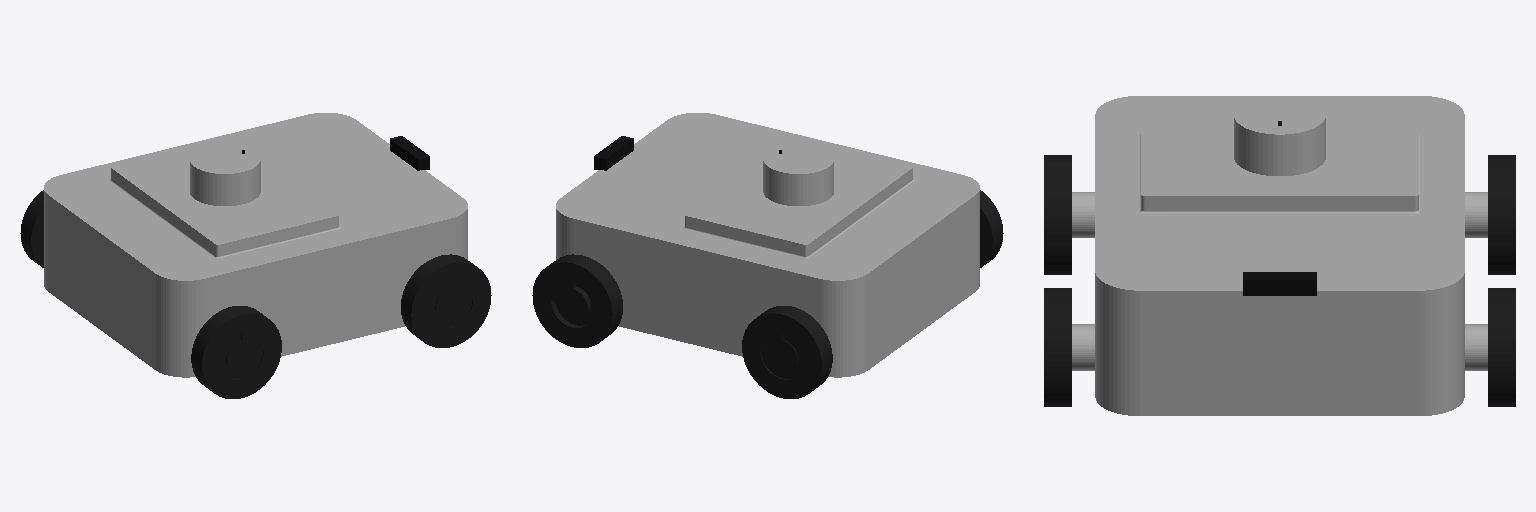
The robot description file, URDF, robot "mobile_robot":
<!--URDF generated by ONSHAPE BY PTC INC, 1.220-->
<robot name="mobile_robot">
    
    
    <link name="dummy_root"/>

    <joint name="dummy_to_body1" type="fixed">
       <parent link="dummy_root"/>
       <child link="body1"/>
       <origin xyz="0 0 0" rpy="0 0 -1.5708"/>
    </joint>
   
    <link name="base_link"/>

    <joint name="body1_to_base_link" type="fixed">
     <parent link="body1"/>
     <child link="base_link"/>
     <origin xyz="0 0 0" rpy="0 0 0"/>
    </joint>

     <link name="body1">
        <inertial>
            <mass value="0.0314678" />
            <origin xyz="3.54862e-11 -0.00253163 0.0795531" rpy="0 -0 0" />
            <inertia ixx="0.000690003" ixy="-5.10466e-12" ixz="-4.70873e-14" iyy="0.000476276" iyz="7.0956e-06"      izz="0.00102698" />
        </inertial>
        <visual>
            <origin xyz="0 0 0" rpy="0 -0 0" />
            <geometry>
                <mesh filename="package://mobile_robot/meshes/Body1.stl" scale="1 1 1" />
            </geometry>
            <material name="0.701961_0.701961_0.701961_0.000000_0.000000">
                <color rgba="0.701961 0.701961 0.701961 1" />
            </material>
        </visual>
        <collision>
            <origin xyz="0 0 0" rpy="0 -0 0" />
            <geometry>
                <mesh filename="package://mobile_robot/meshes/Body1.stl" scale="1 1 1" />
            </geometry>
            <material name="0.701961_0.701961_0.701961_0.000000_0.000000">
                <color rgba="0.701961 0.701961 0.701961 1" />
            </material>
        </collision>
     </link>
     <link name="front_left_wheel_1__body1">
        <inertial>
            <mass value="0.003843" />
            <origin xyz="-0.0146384 0.000232332 0.000234871" rpy="0 -0 0" />
            <inertia ixx="8.28355e-07" ixy="9.25139e-10" ixz="9.35248e-10" iyy="4.42501e-07" iyz="-1.33942e-09" izz="4.42472e-07" />
        </inertial>
        <visual>
            <origin xyz="0.225 -0.17 -0.045" rpy="0 -0 0" />
            <geometry>
                <mesh filename="package://mobile_robot/meshes/front_left_wheel_1__Body1.stl" scale="1 1 1" />
            </geometry>
            <material name="0.152941_0.152941_0.152941_0.000000_0.000000">
                <color rgba="0.152941 0.152941 0.152941 1" />
            </material>
        </visual>
        <collision>
            <origin xyz="-0.015 0 0" rpy="0 1.5708 0" />
            <geometry>
                <cylinder radius="0.065" length="0.03" />
            </geometry>
            
        </collision>
     </link>
     <link name="front_right_wheel_1__body1">
        <inertial>
            <mass value="0.0039538" />
            <origin xyz="0.0149002 4.57573e-05 4.57629e-05" rpy="0 -0 0" />
            <inertia ixx="8.38586e-07" ixy="-2.55086e-10" ixz="-2.55117e-10" iyy="4.48601e-07" iyz="-2.75358e-10" izz="4.48601e-07" />
        </inertial>
        <visual>
            <origin xyz="-0.225 -0.17 -0.045" rpy="0 -0 0" />
            <geometry>
                <mesh filename="package://mobile_robot/meshes/front_right_wheel_1__Body1.stl" scale="1 1 1" />
            </geometry>
            <material name="0.152941_0.152941_0.152941_0.000000_0.000000">
                <color rgba="0.152941 0.152941 0.152941 1" />
            </material>
        </visual>
        <collision>
            <origin xyz="0.015 0 0" rpy="0 1.5708 0" />
            <geometry>
                <cylinder radius="0.065" length="0.03" />
            </geometry>
        </collision>
     </link>
     <link name="reae_right_wheel_1__body1">
        <inertial>
            <mass value="0.00395256" />
            <origin xyz="0.0148958 4.7872e-05 4.78818e-05" rpy="0 -0 0" />
            <inertia ixx="8.38457e-07" ixy="-2.66875e-10" ixz="-2.66929e-10" iyy="4.48512e-07" iyz="-2.88942e-10" izz="4.48512e-07" />
        </inertial>
        <visual>
            <origin xyz="-0.225 0.17 -0.045" rpy="0 -0 0" />
            <geometry>
                <mesh filename="package://mobile_robot/meshes/reae_right_wheel_1__Body1.stl" scale="1 1 1" />
            </geometry>
            <material name="0.152941_0.152941_0.152941_0.000000_0.000000">
                <color rgba="0.152941 0.152941 0.152941 1" />
            </material>
        </visual>
        <collision>
            <origin xyz="0.015 0 0" rpy="0 1.5708 0" />
            <geometry>
                <cylinder radius="0.065" length="0.03" />
            </geometry>
        </collision>
        
     </link>
     <link name="rear_left_wheel_1__body1">
        <inertial>
            <mass value="0.00395314" />
            <origin xyz="-0.0148979 4.70058e-05 4.70347e-05" rpy="0 -0 0" />
            <inertia ixx="8.38506e-07" ixy="2.62046e-10" ixz="2.62207e-10" iyy="4.48548e-07" iyz="-2.83902e-10" izz="4.48547e-07" />
        </inertial>
        <visual>
            <origin xyz="0.225 0.17 -0.045" rpy="0 -0 0" />
            <geometry>
                <mesh filename="package://mobile_robot/meshes/rear_left_wheel_1__Body1.stl" scale="1 1 1" />
            </geometry>
            <material name="0.152941_0.152941_0.152941_0.000000_0.000000">
                <color rgba="0.152941 0.152941 0.152941 1" />
            </material>
        </visual>
        <collision>
            <origin xyz="-0.015 0 0" rpy="0 1.5708 0" />
            <geometry>
                <cylinder radius="0.065" length="0.03" />
            </geometry>
        </collision>
     </link>
    
    
     <link name="lidar_link">
         <inertial>
             <mass value="0.001" />
             <origin xyz="0 -0.01 0" rpy="0 0 0" />
             <inertia ixx="0.0001" ixy="0" ixz="0" iyy="0.0001" iyz="0" izz="0.0001" />
         </inertial>
         <visual>
              <origin xyz="0 -0.01 0" rpy="0 0 0" />
              <geometry>
                 <cylinder radius="0.0025" length="0.004" />
              </geometry>
              <material name="black">
                  <color rgba="0.1 0.1 0.1 1" />
              </material>
          </visual>
          <collision>
              <origin xyz="0 -0.01 0" rpy="0 0 0" />
              <geometry>
                  <cylinder radius="0.0025" length="0.004" />
              </geometry>
          </collision>
     </link>
    
    <link name="stereo_camera_link">
     <inertial>
        <mass value="0.005" />
        <origin xyz="0 0 0" rpy="0 0 0" />
        <inertia ixx="0.00005" ixy="0" ixz="0" iyy="0.00005" iyz="0" izz="0.00005" />
     </inertial>
     <visual>
        <origin xyz="0 0 0" rpy="0 0 0" />
        <geometry>
            <box size="0.02 0.08 0.02" />
        </geometry>
        <material name="black">
            <color rgba="0.1 0.1 0.1 1" />
        </material>
     </visual>
     <collision>
        <origin xyz="0 0 0" rpy="0 0 0" />
        <geometry>
            <box size="0.02 0.08 0.02" />
        </geometry>
     </collision>
    </link>


    <joint name="revolute_1" type="continuous">
        <origin xyz="-0.225 0.17 0.045" rpy="0 -0 0" />
        <axis xyz="-1 0 0" />
        <parent link="body1" />
        <child link="front_left_wheel_1__body1" />
    </joint>
    <joint name="revolute_2" type="continuous">
        <origin xyz="0.225 0.17 0.045" rpy="0 -0 0" />
        <axis xyz="-1 0 0" />
        <parent link="body1" />
        <child link="front_right_wheel_1__body1" />
    </joint>
    <joint name="revolute_3" type="continuous">
        <origin xyz="0.225 -0.17 0.045" rpy="0 -0 0" />
        <axis xyz="-1 0 0" />
        <parent link="body1" />
        <child link="reae_right_wheel_1__body1" />
    </joint>
    <joint name="revolute_4" type="continuous">
        <origin xyz="-0.225 -0.17 0.045" rpy="0 -0 0" />
        <axis xyz="-1 0 0" />
        <parent link="body1" />
        <child link="rear_left_wheel_1__body1" />
    </joint>
    
    <joint name="lidar_joint" type="fixed">
        <origin xyz="0 -0.01 0.224" rpy="0 0 0" />
        <parent link="body1" />
        <child link="lidar_link" />
    </joint>
    
    <joint name="stereo_camera_joint" type="fixed">
       <origin xyz="0 0.25 0.158" rpy="0 0 1.5708" />
       <parent link="body1" />
       <child link="stereo_camera_link" />
    </joint>
    
    <gazebo reference="body1">
         <material>Gazebo/Black</material>
    </gazebo>
    <gazebo reference="front_left_wheel_1__body1">
       <material>Gazebo/Grey</material>
       <mu1>0.7</mu1>
       <mu2>0.5</mu2>
    </gazebo>
    <gazebo reference="front_right_wheel_1__body1">
       <material>Gazebo/Grey</material>
       <mu1>0.7</mu1>
       <mu2>0.5</mu2>
    </gazebo>
    <gazebo reference="reae_right_wheel_1__body1">
       <material>Gazebo/Grey</material>
       <mu1>0.7</mu1>
       <mu2>0.5</mu2>
    </gazebo>
    <gazebo reference="rear_left_wheel_1__body1">
       <material>Gazebo/Grey</material>
       <mu1>0.7</mu1>
       <mu2>0.5</mu2>
    </gazebo>
    
    <gazebo>
     <plugin filename="gz-sim-diff-drive-system" name="gz::sim::systems::DiffDrive">
        <left_joint>revolute_1</left_joint>
        <left_joint>revolute_4</left_joint>
        <right_joint>revolute_2</right_joint>
        <right_joint>revolute_3</right_joint>
        <wheel_separation>0.68</wheel_separation>
        <wheel_radius>0.065</wheel_radius>
        <odom_publish_frequency>50</odom_publish_frequency>
        <topic>cmd_vel</topic>
        <odom_topic>odom</odom_topic>
        <frame_id>odom</frame_id>
        <child_frame_id>dummy_root</child_frame_id>
        <tf_topic>/tf</tf_topic>
     </plugin>
    </gazebo>
    
    <gazebo>
      <plugin filename="gz-sim-joint-state-publisher-system" name="gz::sim::systems::JointStatePublisher"/>
    </gazebo>
   
 

    <gazebo reference="lidar_link">
      <sensor name="lidar_sensor" type="gpu_lidar">
        <topic>scan</topic>
        <update_rate>10</update_rate>
        <lidar>
            <scan>
                <horizontal>
                    <samples>360</samples>
                    <resolution>1</resolution>
                    <min_angle>-3.14159</min_angle>
                    <max_angle>3.14159</max_angle>
                </horizontal>
            </scan>
            <range>
                <min>0.12</min>
                <max>10.0</max>
                <resolution>0.015</resolution>
            </range>
        </lidar>
        <always_on>true</always_on>
        <visualize>true</visualize>
      </sensor>
    </gazebo>
    
    <gazebo reference="lidar_joint">
      <preserveFixedJoint>true</preserveFixedJoint>
    </gazebo>
    
   
    
    

</robot>

--- What the picture shows (computed from the rendered views, not written in the file) ---
Views: 3 orthographic renders of the robot side by side, from view 1: azimuth 30°, elevation 25°; view 2: azimuth 150°, elevation 25°; view 3: azimuth 270°, elevation 25°.
Model mobile_robot with 9 links and 8 joints (4 continuous, 4 fixed), rooted at dummy_root, posed every joint at zero.
Links seen in each view (by area): view 1: body1, reae_right_wheel_1__body1, front_right_wheel_1__body1, rear_left_wheel_1__body1, stereo_camera_link; view 2: body1, rear_left_wheel_1__body1, front_left_wheel_1__body1, reae_right_wheel_1__body1, stereo_camera_link; view 3: body1, reae_right_wheel_1__body1, rear_left_wheel_1__body1, front_left_wheel_1__body1, front_right_wheel_1__body1, stereo_camera_link.
Link boxes in pixels (<box>): body1: <box>44,113,467,377</box>; reae_right_wheel_1__body1: <box>191,306,281,398</box>; front_right_wheel_1__body1: <box>401,254,491,347</box>; rear_left_wheel_1__body1: <box>20,190,43,267</box>; stereo_camera_link: <box>390,136,429,170</box>; body1: <box>556,113,979,377</box>; rear_left_wheel_1__body1: <box>742,306,832,398</box>; front_left_wheel_1__body1: <box>532,254,622,347</box>; reae_right_wheel_1__body1: <box>980,190,1003,267</box>; stereo_camera_link: <box>594,136,633,170</box>; body1: <box>1072,96,1487,415</box>; reae_right_wheel_1__body1: <box>1044,155,1071,274</box>; rear_left_wheel_1__body1: <box>1488,155,1515,274</box>; front_left_wheel_1__body1: <box>1488,288,1515,406</box>; front_right_wheel_1__body1: <box>1044,288,1071,406</box>; stereo_camera_link: <box>1243,272,1316,295</box>.
Size in the robot's own frame: 0.51 by 0.51 by 0.246 metres.
Meshes: 5 distinct files referenced, 5 mesh visuals loaded (5 binary STL).
